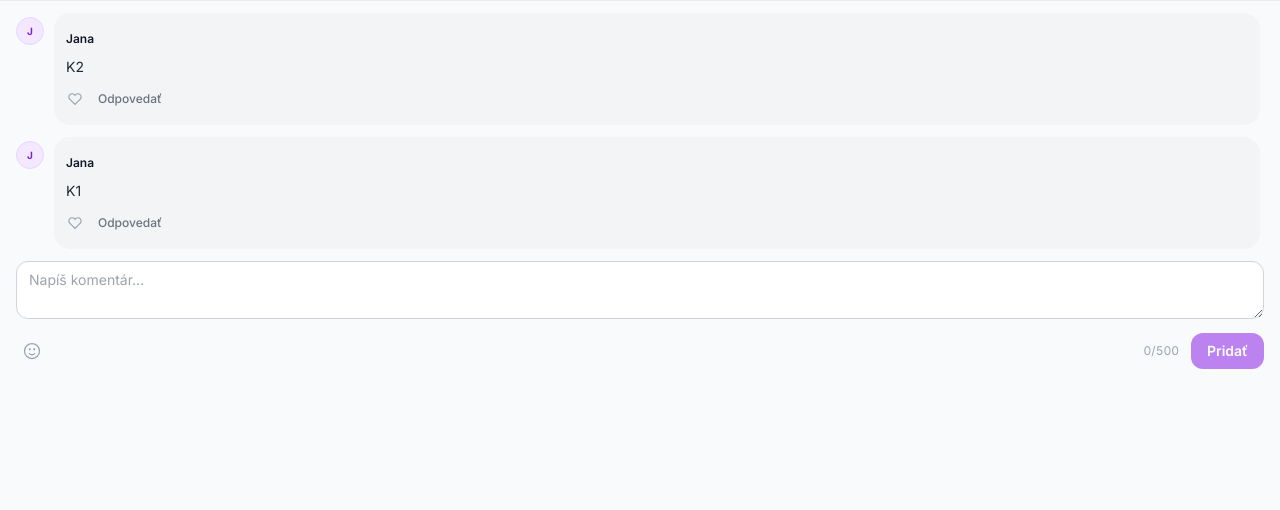
Scenario: puts an own comment straight on top
The width and height of the screenshot is (1280, 510).
Expected: the text "K2" is shown, [66,58,84,75]
Type "Môj" into the text box at point(640, 290), box [16,261,1264,319]
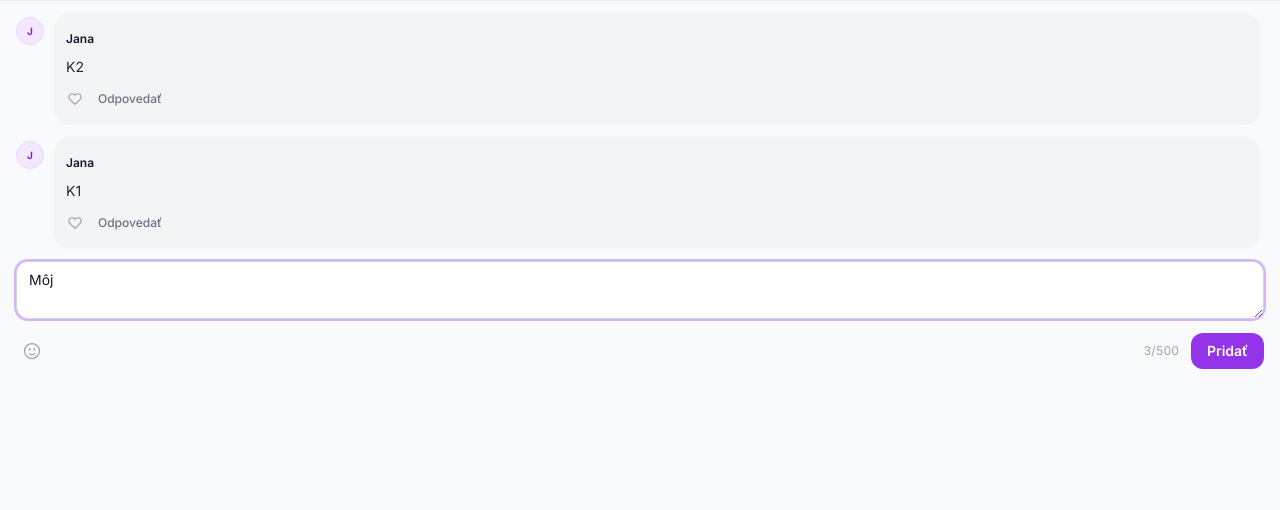
Click the button "Pridať" at point(1228, 351), box [1191,333,1264,369]
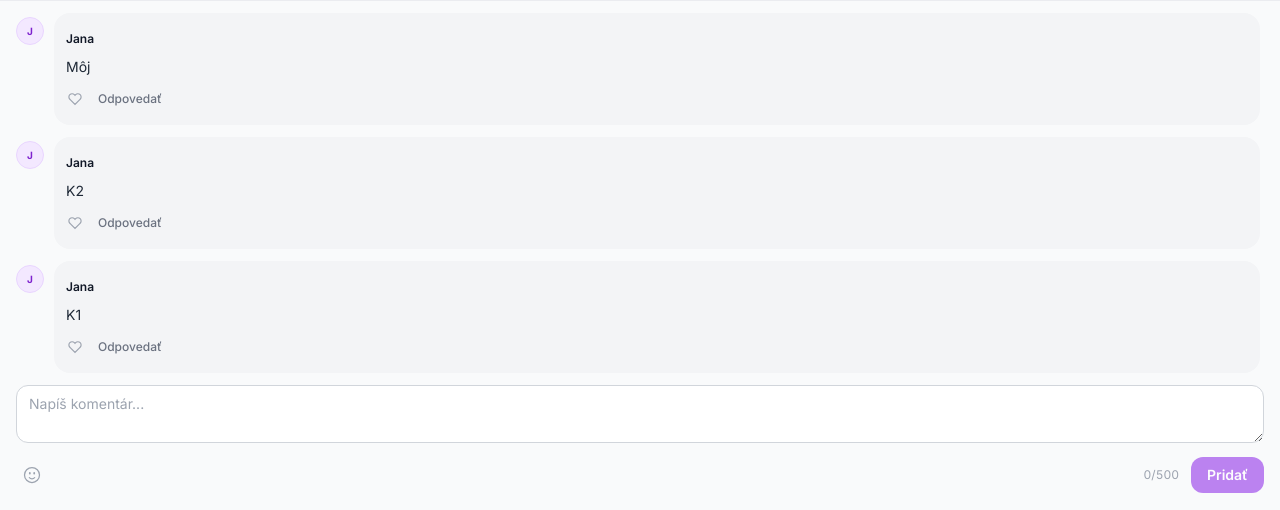
Expected: the text "Môj" is shown, [66,58,90,75]
